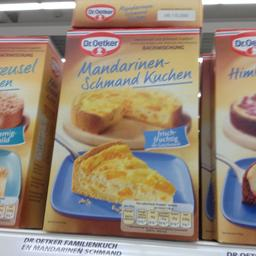cake: (42, 25, 196, 242), (198, 26, 252, 248)
